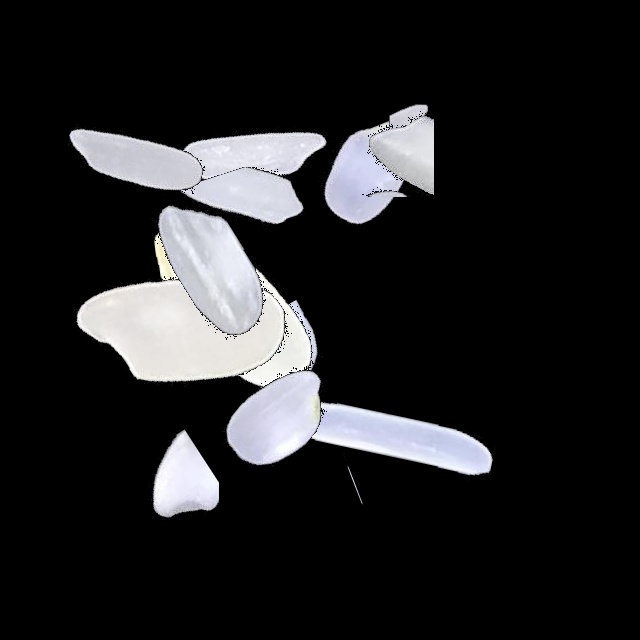Broken: (225, 259, 378, 509), (128, 167, 378, 313), (77, 378, 219, 628), (311, 37, 434, 287), (289, 450, 539, 551), (389, 28, 489, 278), (251, 113, 501, 197)
Full: (265, 312, 515, 562), (129, 25, 379, 275), (109, 175, 359, 425), (60, 201, 310, 451), (154, 293, 404, 543), (247, 48, 497, 298), (87, 142, 337, 392), (9, 31, 259, 281)
